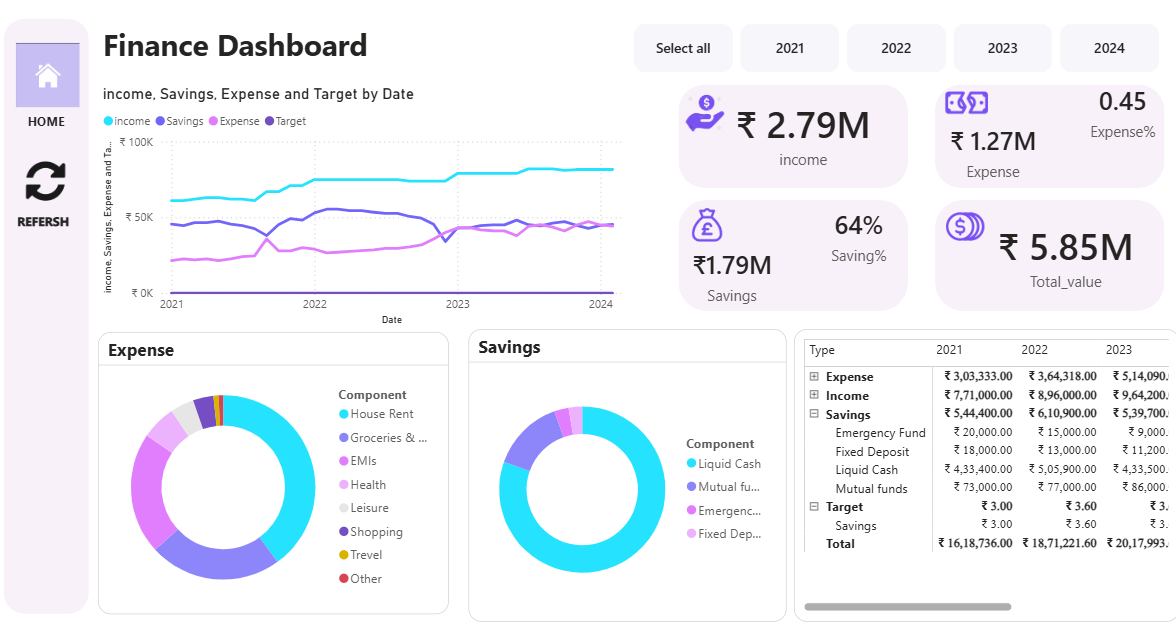

This screenshot's page, from the dashboard's own definition file:
{"tool":"powerbi","page":{"name":"Page 1","canvas":[1280,720],"ordinal":0},"visuals":[{"type":"advancedSlicerVisual","fields":{"Values":["Dataset.Year"]},"box":[686.6,43.7,578.1,63.1],"z":0},{"type":"donutChart","title":"Savings ","fields":{"Category":["Dataset.Component"],"Y":["Dataset.Savings"]},"box":[513.3,378.9,343.3,315.7],"z":1000},{"type":"donutChart","title":"Expense ","fields":{"Category":["Dataset.Component"],"Y":["Dataset.Expense"]},"box":[113.3,382.1,378.9,304.4],"z":2000},{"type":"pivotTable","fields":{"Values":["Dataset.Total_value"],"Rows":["Dataset.Type","Dataset.Component"],"Columns":["Dataset.Year"]},"box":[864.7,378.9,416.1,315.7],"z":3000},{"type":"lineChart","fields":{"Y":["Dataset.income","Dataset.Savings","Dataset.Expense","Dataset.Target"],"Category":["Dataset.Date"]},"box":[113.3,115,573.2,263.9],"z":4000},{"type":"textbox","box":[113.3,43.7,523,63.1],"z":5000},{"type":"shape","box":[740,239.6,247.7,119.8],"z":6000},{"type":"shape","box":[1016.9,239.6,247.7,119.8],"z":7000},{"type":"shape","box":[740,115,247.7,111.7],"z":8000},{"type":"shape","box":[1016.9,115,247.7,111.7],"z":9000},{"type":"shape","box":[11.3,43.7,92.3,642.8],"z":10000},{"type":"card","fields":{"Values":["Dataset.income"]},"box":[769.1,106.9,210.5,119.8],"z":11000},{"type":"card","fields":{"Values":["Dataset.Expense"]},"box":[1016.9,145.7,124.7,81],"z":12000},{"type":"card","fields":{"Values":["Dataset.Saving%"]},"box":[889,236.4,90.7,82.6],"z":13000},{"type":"card","fields":{"Values":["Dataset.Savings"]},"box":[730.3,247.7,134.4,145.7],"z":14000},{"type":"card","fields":{"Values":["Dataset.Expense%"]},"box":[1157.7,106.9,123.1,72.9],"z":15000},{"type":"card","fields":{"Values":["Dataset.Total_value"]},"box":[1057.4,183,200.8,231.5],"z":16000},{"type":"image","box":[8.1,64.8,102,79.3],"z":17000},{"type":"textbox","box":[32.4,139.3,56.7,32.4],"z":18000},{"type":"image","box":[17.8,179.7,77.7,77.7],"z":19000},{"type":"textbox","box":[21,247.7,92.3,45.3],"z":20000},{"type":"actionButton","box":[28,194.6,61,52.8],"z":21000},{"type":"image","box":[740,118.2,56.7,55.1],"z":22000},{"type":"image","box":[1021.7,105.2,58.3,58.3],"z":23000},{"type":"image","box":[744.8,241.3,51.8,51.8],"z":24000},{"type":"image","box":[1018.5,241.3,61.5,53.4],"z":25000}]}

Visuals, with their boxes on the page's 1280x720 design canvas (x1, y1, x2, y2). These are canvas units, not pixel positions in the 1176x638 screenshot, which may show the page scaled, cropped or inside an application window:
advancedSlicerVisual - Dataset.Year: box=[687, 44, 1265, 107]
"Savings " donutChart: box=[513, 379, 857, 695]
"Expense " donutChart: box=[113, 382, 492, 686]
pivotTable - Dataset.Total_value x Dataset.Type: box=[865, 379, 1281, 695]
lineChart - Dataset.income x Dataset.Savings: box=[113, 115, 686, 379]
textbox: box=[113, 44, 636, 107]
shape: box=[740, 240, 988, 359]
shape: box=[1017, 240, 1265, 359]
shape: box=[740, 115, 988, 227]
shape: box=[1017, 115, 1265, 227]
shape: box=[11, 44, 104, 686]
card - Dataset.income: box=[769, 107, 980, 227]
card - Dataset.Expense: box=[1017, 146, 1142, 227]
card - Dataset.Saving%: box=[889, 236, 980, 319]
card - Dataset.Savings: box=[730, 248, 865, 393]
card - Dataset.Expense%: box=[1158, 107, 1281, 180]
card - Dataset.Total_value: box=[1057, 183, 1258, 414]
image: box=[8, 65, 110, 144]
textbox: box=[32, 139, 89, 172]
image: box=[18, 180, 96, 257]
textbox: box=[21, 248, 113, 293]
actionButton: box=[28, 195, 89, 247]
image: box=[740, 118, 797, 173]
image: box=[1022, 105, 1080, 164]
image: box=[745, 241, 797, 293]
image: box=[1018, 241, 1080, 295]
